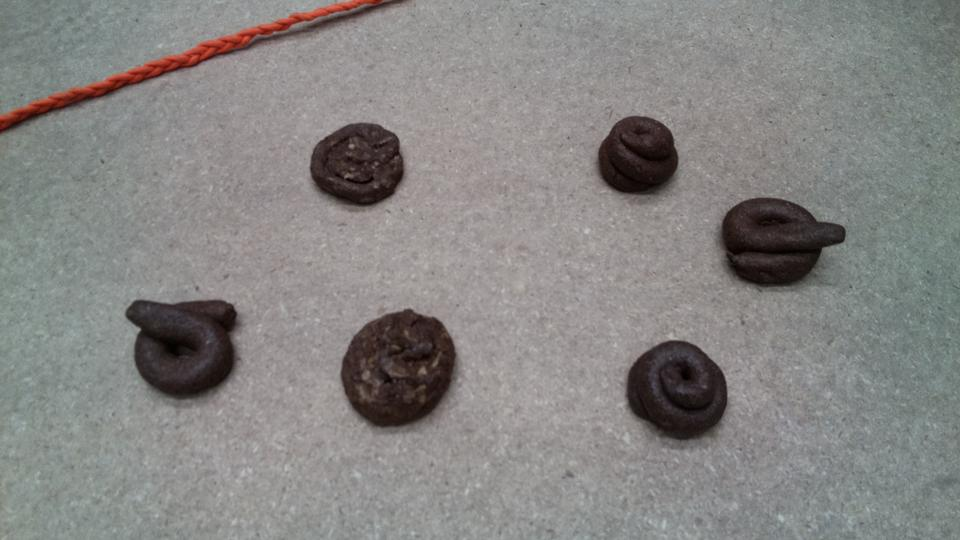poop: (339, 306, 459, 431), (123, 294, 242, 399), (718, 195, 850, 289), (623, 338, 728, 443), (308, 119, 406, 208), (595, 113, 681, 196)
rope: (1, 1, 369, 125)
